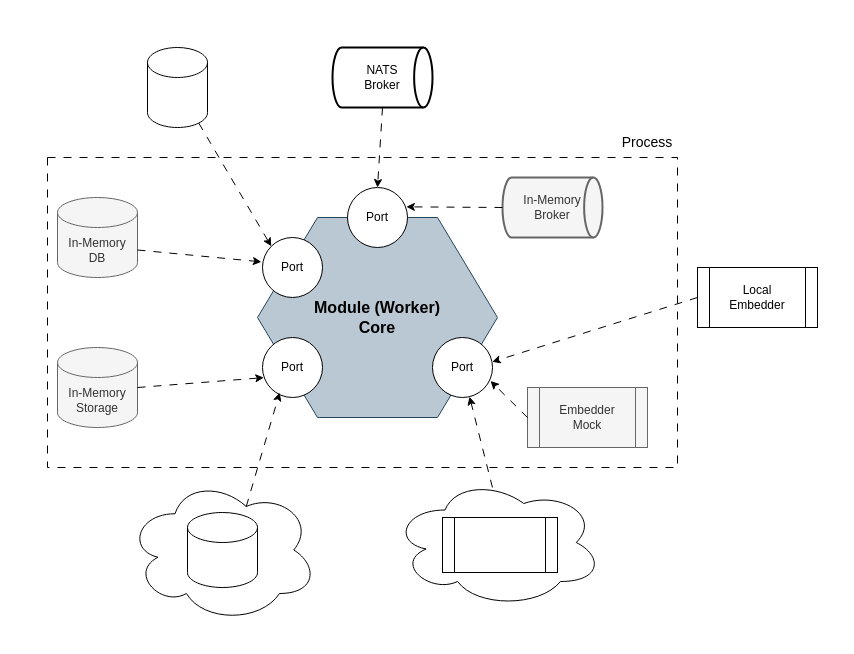
Some shapes in this 854 by 654 pixel diagram are drawn without their labels. The shapes that lost their labels are listed below. From the top down, each one's centre as x and y in pixels, then its label:
At (x=177, y=87): "Local DB".
At (x=222, y=550): "S3 Storage".
At (x=500, y=544): "Embedder API".
